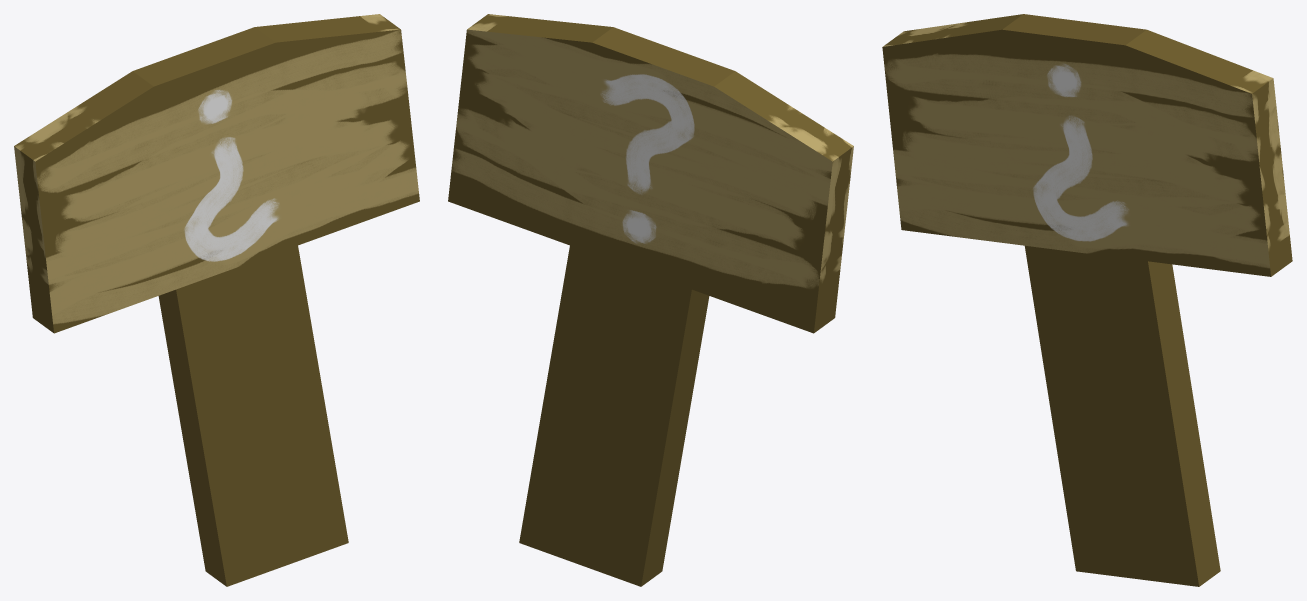
File: blockSign.obj
3 renders of one model, left to right at view 1: azimuth 30°, elevation 25°; view 2: azimuth 150°, elevation 25°; view 3: azimuth 330°, elevation 25°, orthographic.
Visible parts, largest first — view 1: blockSign; view 2: blockSign; view 3: blockSign.
Part boxes in pixels (left/top/right/bottom): blockSign: left=14, top=14, right=419, bottom=586; blockSign: left=448, top=14, right=853, bottom=586; blockSign: left=882, top=14, right=1292, bottom=586.
Bounding box in the file's own units: 1.05 × 1.38 × 0.1.
1 material, 1 textured.
